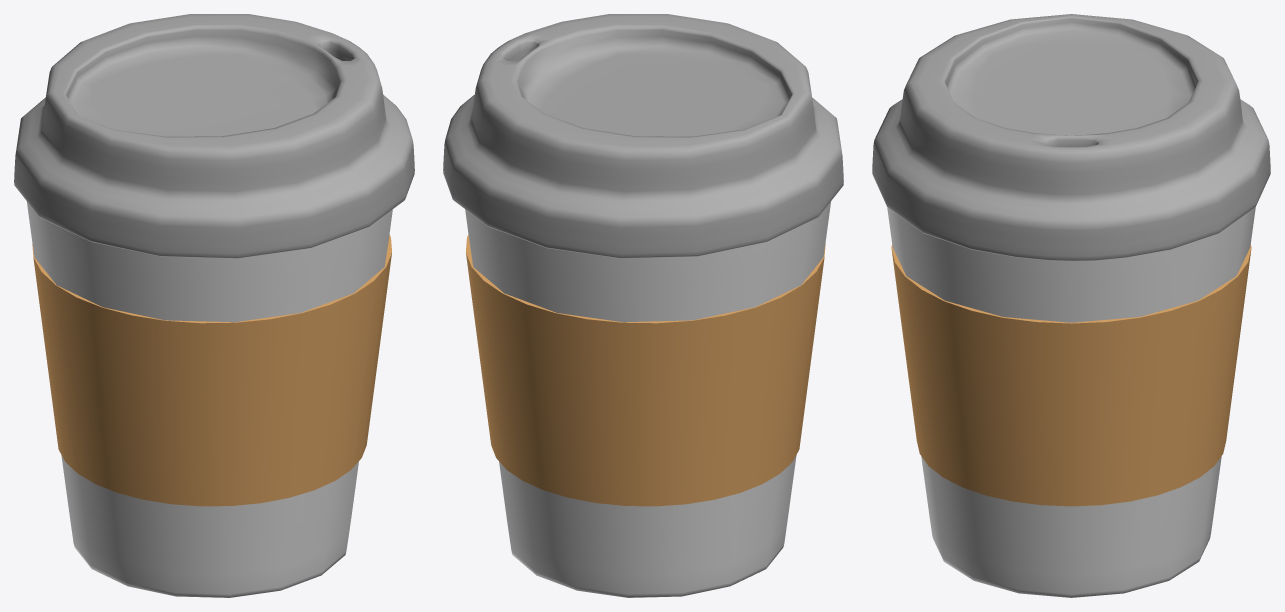
Rendered from gobelet_cafe.fbx.
3 views of the same model, side by side, from view 1: azimuth 30°, elevation 25°; view 2: azimuth 150°, elevation 25°; view 3: azimuth 270°, elevation 25° (orthographic).
Parts seen in each view (by area): view 1: Lid, Cylinder, Cardboard Cup; view 2: Lid, Cylinder, Cardboard Cup; view 3: Lid, Cylinder, Cardboard Cup.
Boxes of the visible parts, box(x1,y1,x2,y2) form: Lid: box(14, 14, 414, 258); Cylinder: box(32, 235, 391, 506); Cardboard Cup: box(26, 201, 392, 597); Lid: box(443, 14, 843, 258); Cylinder: box(466, 235, 825, 506); Cardboard Cup: box(465, 201, 830, 597); Lid: box(872, 14, 1270, 260); Cylinder: box(891, 244, 1251, 506); Cardboard Cup: box(887, 207, 1255, 597).
Bounding box in the file's own units: 0.122 × 0.1206 × 0.1537.
